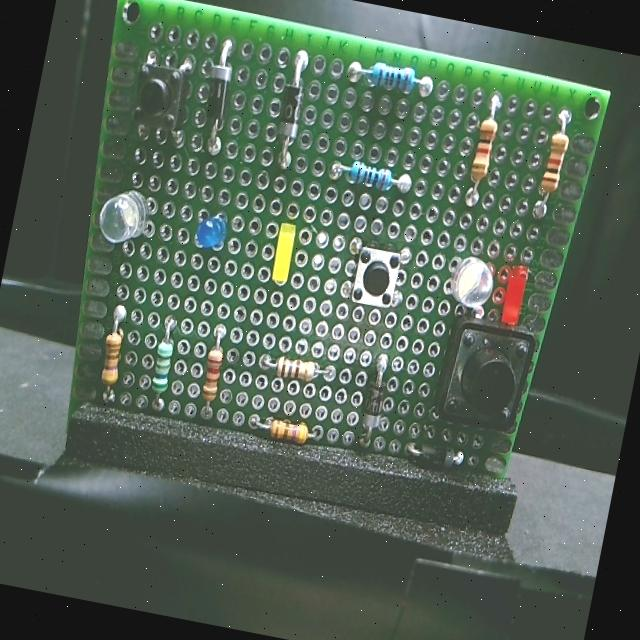diode: (184, 63, 248, 143), (264, 77, 316, 157), (400, 435, 466, 481), (358, 359, 394, 439)
led: (96, 177, 162, 256), (261, 216, 320, 304), (439, 252, 501, 319), (493, 262, 535, 326), (187, 205, 234, 258)
resistor: (81, 318, 132, 403), (329, 150, 414, 200), (349, 54, 428, 104), (535, 120, 580, 206), (462, 106, 502, 185), (191, 334, 229, 408), (250, 410, 322, 447), (147, 326, 178, 404), (270, 348, 318, 386)
switch: (431, 316, 536, 446), (125, 47, 192, 132), (346, 238, 407, 318)
